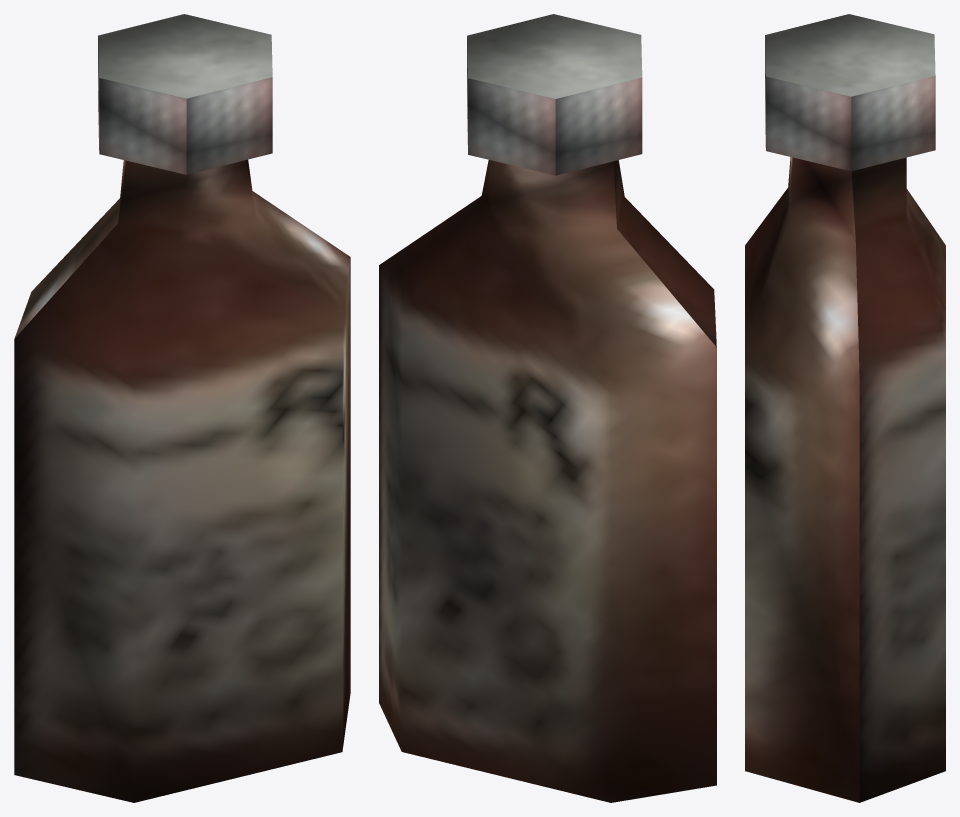
The model's file is antijet.obj.
The picture shows the model from 3 angles, left to right: view 1: azimuth 30°, elevation 25°; view 2: azimuth 150°, elevation 25°; view 3: azimuth 270°, elevation 25°; orthographic projection. The views are drawn at different scales.
Parts seen in each view (by area): view 1: cylinder1; view 2: cylinder1; view 3: cylinder1.
Boxes of the visible parts, x1=… form: cylinder1: x1=14, y1=14, x2=350, y2=802; cylinder1: x1=379, y1=14, x2=716, y2=802; cylinder1: x1=745, y1=14, x2=945, y2=802.
Bounding box in the file's own units: 1.61 × 3.13 × 0.8545.
Materials: 1 (1 with a texture image).
